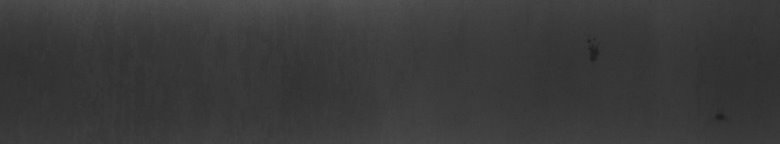fi: (715, 114, 725, 120)
